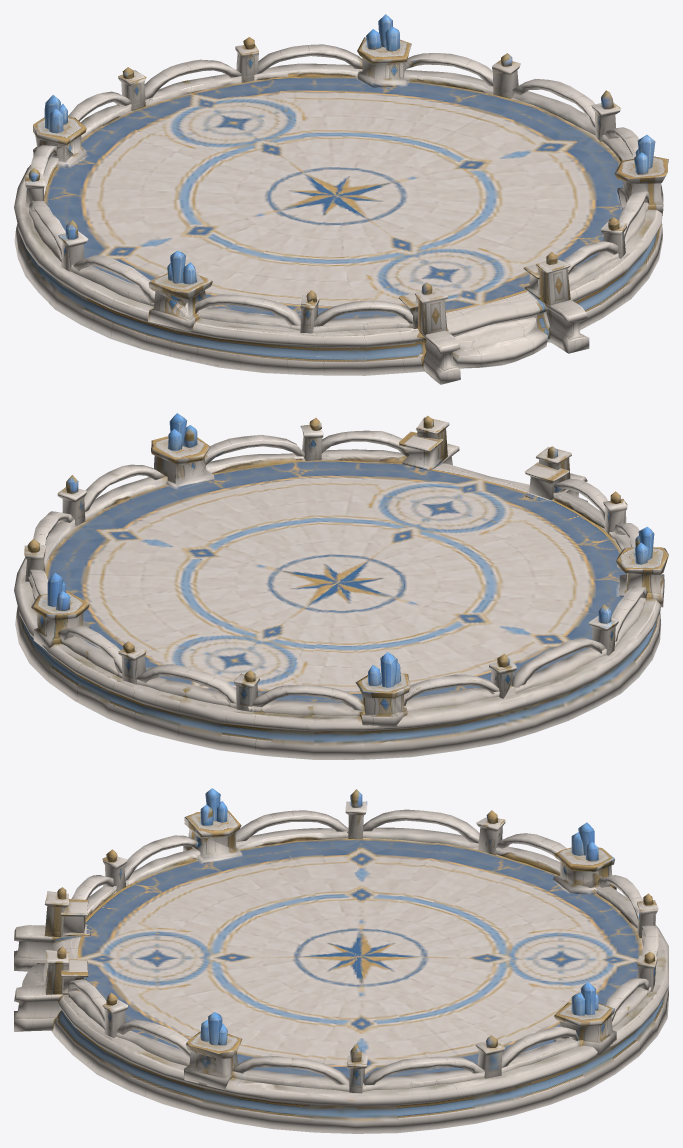
Rendered from Meshy_AI_Celestial_Frost_Arena_0919170027_texture.fbx.
3 renders of one model, top to bottom at view 1: azimuth 30°, elevation 25°; view 2: azimuth 150°, elevation 25°; view 3: azimuth 270°, elevation 25°, orthographic. The views are drawn at different scales.
Parts seen in each view (by area): view 1: Mesh_0; view 2: Mesh_0; view 3: Mesh_0.
Part boxes in pixels (x1,y1,x2,y2): Mesh_0: (14,14,668,384); Mesh_0: (14,413,668,759); Mesh_0: (14,788,668,1133).
Bounding box in the file's own units: 97.27 × 16.8 × 100.
1 material, 1 textured.
